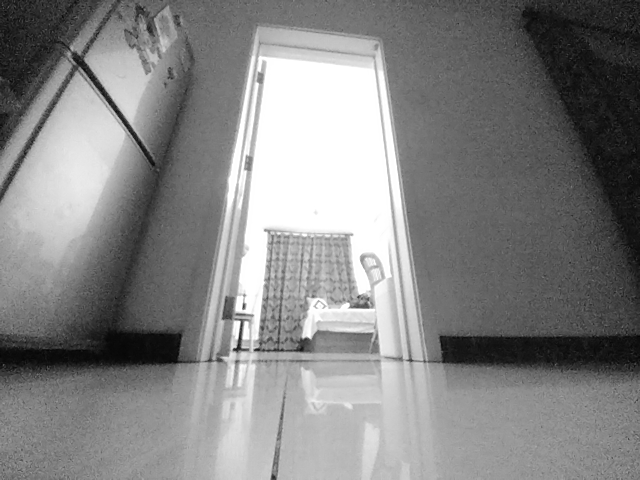curtain: (257, 229, 303, 352)
